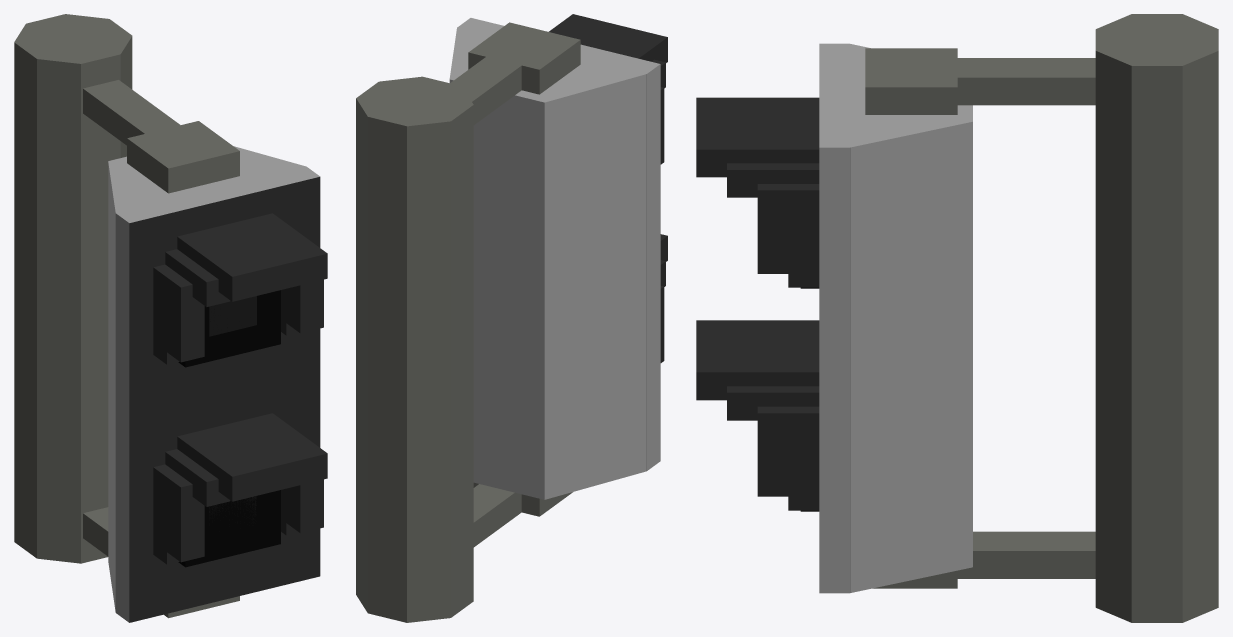
File: lightflare.obj
3 views of the same model, side by side, from view 1: azimuth 30°, elevation 25°; view 2: azimuth 150°, elevation 25°; view 3: azimuth 270°, elevation 25° (orthographic). The views are drawn at different scales.
Parts seen in each view (by area): view 1: cube, uh_frontplate, lh_frontplate, upt_top, lwt_top, rod, connector, lightflare_2, upt_left, lwt_left, lightflare_1, uh_left_plate (+9 smaller); view 2: cube, uh_left_plate, lh_left_plate, lh_backplate, uh_backplate, rod, uh_frontplate, connector, upt_top, lh_frontplate, uh_top_plate_large, uh_right_plate; view 3: cube, uh_right_plate, lh_right_plate, rod, uh_frontplate, lwt_top, upt_top, connector, lh_frontplate, lwt_right, upt_right, upt_right_corner (+3 smaller).
Part boxes in pixels (x1,y1,x2,y2): cube: [14, 14, 132, 563]; uh_frontplate: [115, 166, 320, 422]; lh_frontplate: [115, 376, 320, 622]; upt_top: [177, 213, 327, 301]; lwt_top: [177, 413, 327, 501]; rod: [83, 80, 213, 556]; connector: [127, 121, 239, 618]; lightflare_2: [178, 490, 280, 567]; upt_left: [153, 264, 204, 362]; lwt_left: [153, 464, 204, 562]; lightflare_1: [178, 290, 280, 367]; uh_left_plate: [108, 161, 142, 411]; cube: [356, 76, 473, 622]; uh_left_plate: [530, 68, 646, 300]; lh_left_plate: [544, 273, 646, 499]; lh_backplate: [473, 284, 544, 499]; uh_backplate: [449, 69, 556, 300]; rod: [450, 32, 555, 547]; uh_frontplate: [457, 18, 660, 272]; connector: [468, 22, 580, 516]; upt_top: [549, 14, 667, 62]; lh_frontplate: [646, 263, 660, 470]; uh_top_plate_large: [453, 33, 622, 88]; uh_right_plate: [449, 28, 480, 78]; cube: [1095, 14, 1218, 622]; uh_right_plate: [837, 113, 972, 370]; lh_right_plate: [850, 344, 972, 592]; rod: [880, 58, 1095, 578]; uh_frontplate: [819, 43, 849, 370]; lwt_top: [696, 320, 819, 400]; upt_top: [696, 97, 819, 177]; connector: [865, 48, 957, 588]; lh_frontplate: [819, 370, 849, 593]; lwt_right: [757, 406, 819, 496]; upt_right: [757, 184, 819, 273]; upt_right_corner: [727, 163, 819, 197].
Size of the model in its own units: 0.5 by 1.25 by 1.06.
Materials: 6 (6 with a texture image).
